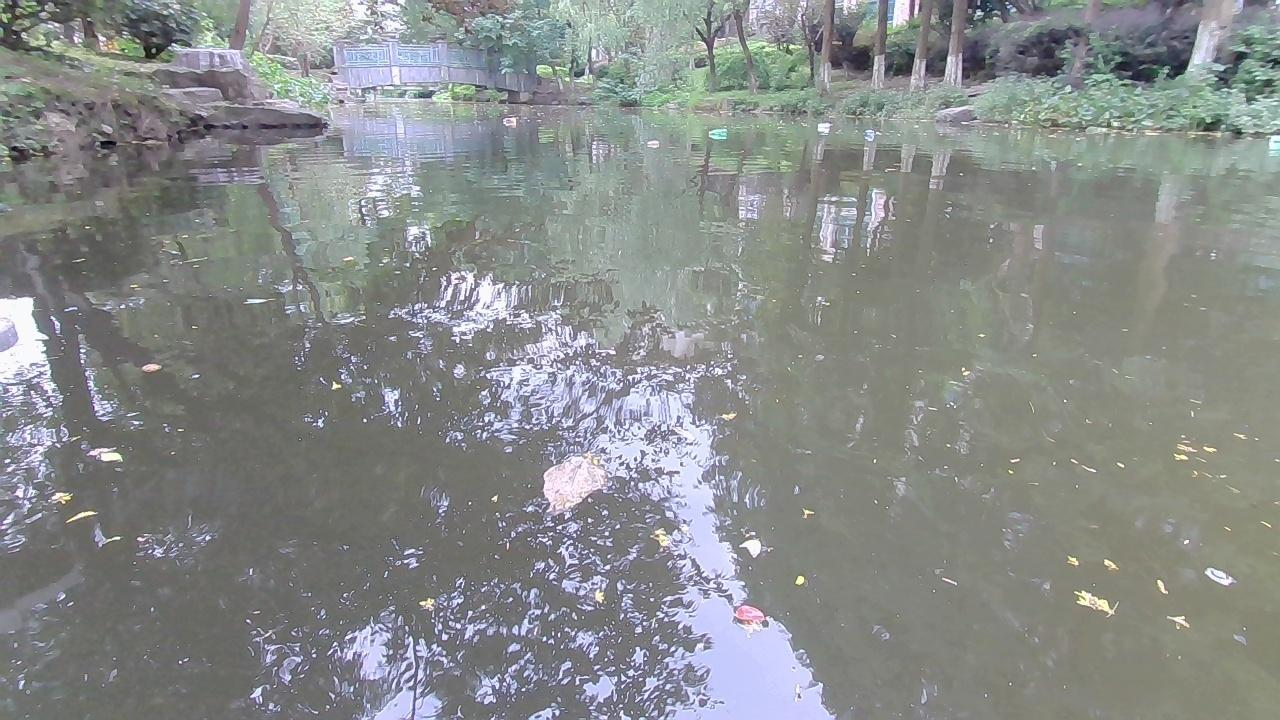bottle: (707, 124, 726, 134), (497, 116, 516, 125), (644, 139, 657, 150), (862, 128, 876, 136), (813, 122, 828, 127)
